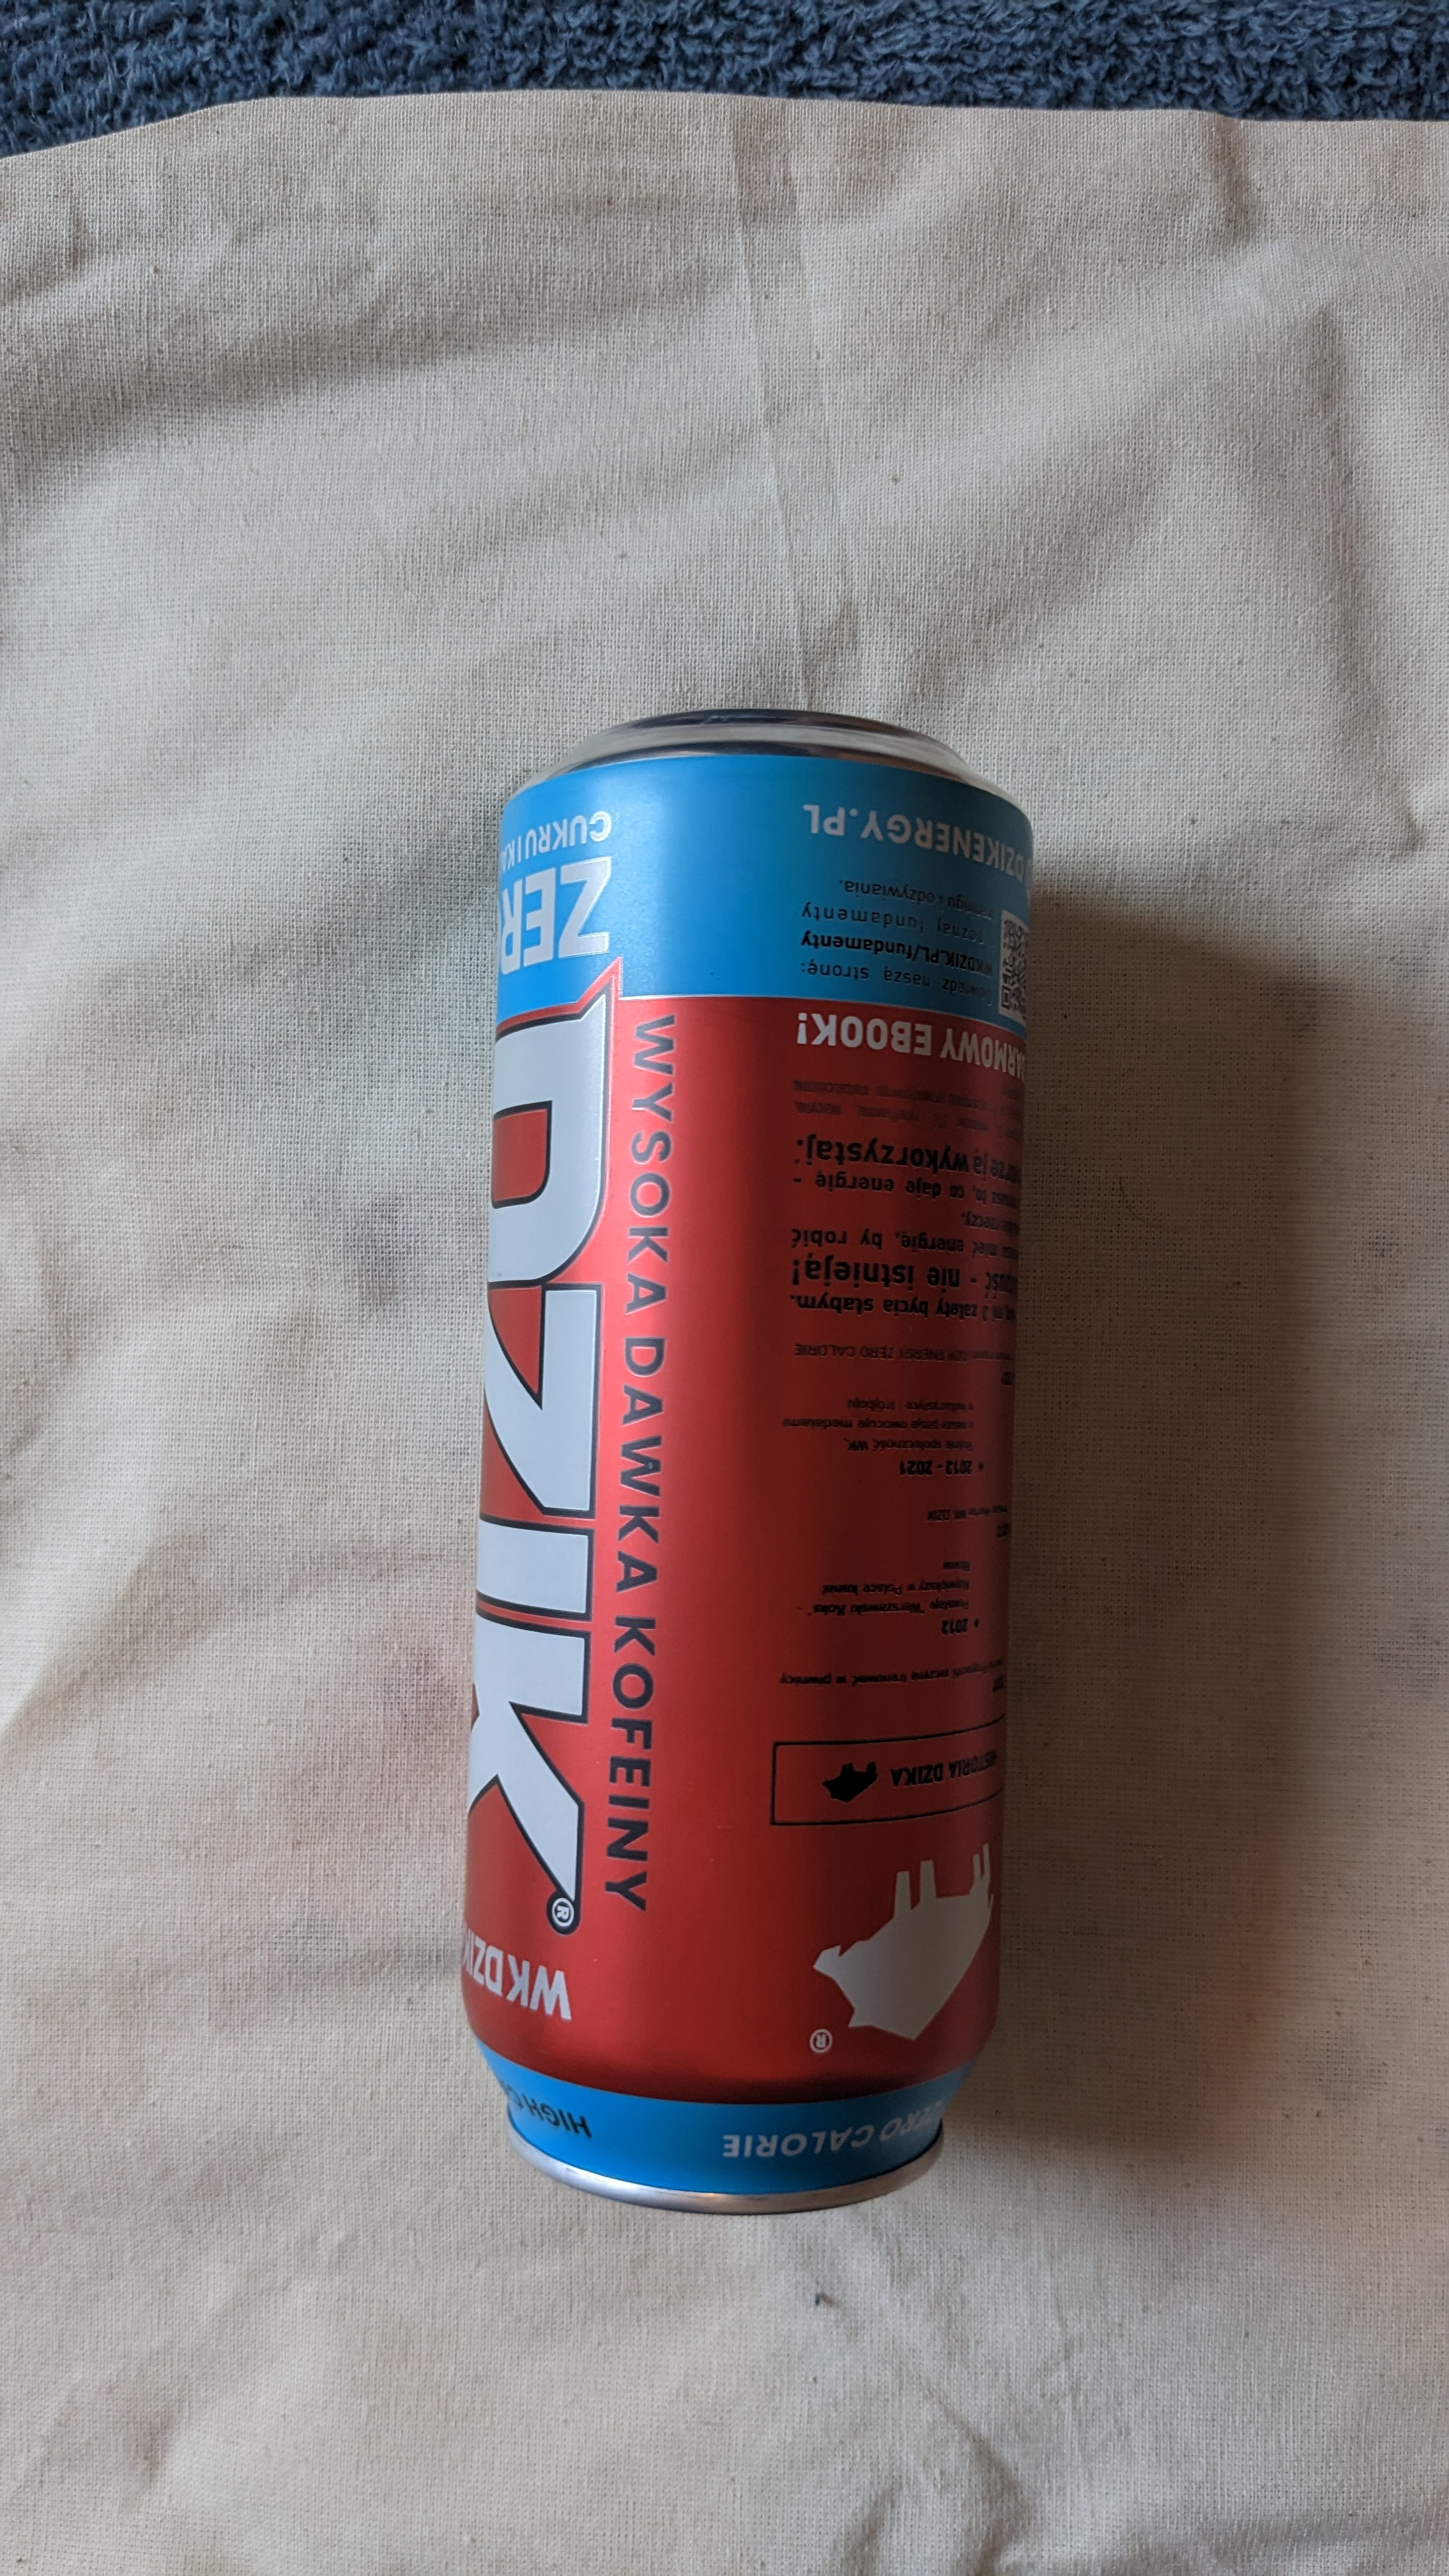dzik: (430, 727, 1072, 2229)
